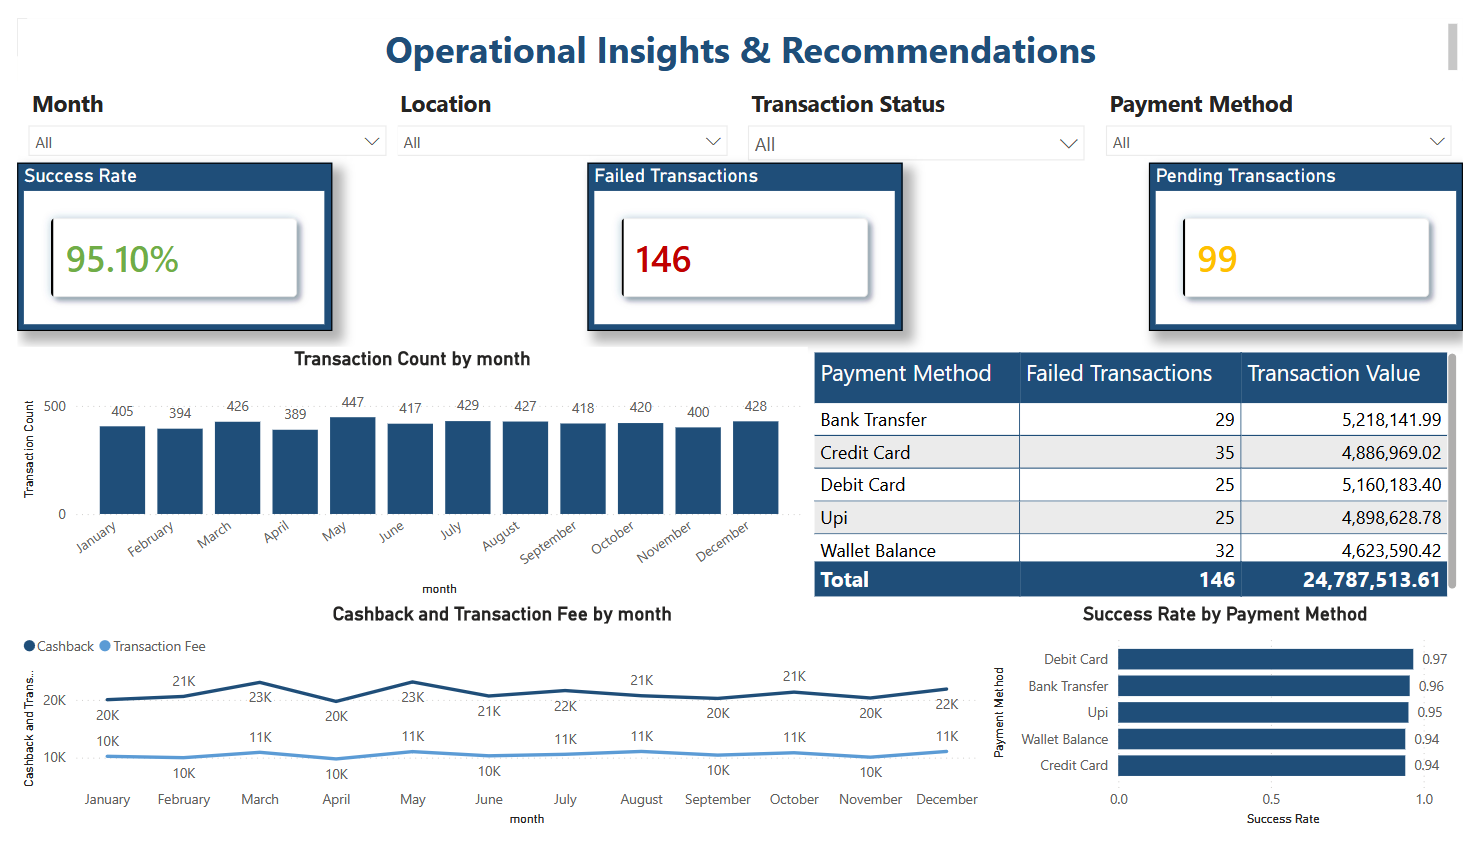

What the dashboard file says about the page in this screenshot:
{"tool":"powerbi","page":{"name":"Operational Insights & Recommendations","canvas":[1280,720],"ordinal":3},"visuals":[{"type":"textbox","box":[9.3,0,1270.7,52.1],"z":0},{"type":"slicer","fields":{"Values":["cleaned_transactions.payment_method"]},"box":[954.4,56.3,325.6,71.4],"z":1000},{"type":"slicer","fields":{"Values":["cleaned_transactions.location"]},"box":[325.6,56.3,313.2,71.4],"z":2000},{"type":"slicer","fields":{"Values":["cleaned_transactions.transaction_status"]},"box":[637.4,56.3,317.3,71.4],"z":3000},{"type":"slicer","fields":{"Values":["cleaned_transactions.month"]},"box":[0,56.3,336.6,71.4],"z":4000},{"type":"cardVisual","title":"Failed Transactions","fields":{"Data":["cleaned_transactions.Failed Transactions"]},"box":[505,127.6,278.6,149.6],"z":5000},{"type":"cardVisual","title":"Success Rate","fields":{"Data":["cleaned_transactions.Success Rate"]},"box":[0,127.6,278.6,149.6],"z":6000},{"type":"cardVisual","title":"Pending Transactions","fields":{"Data":["cleaned_transactions.Pending Transactions"]},"box":[1001.7,127.6,278.6,149.6],"z":7000},{"type":"clusteredBarChart","title":"Success Rate by Payment Method","fields":{"Category":["cleaned_transactions.payment_method"],"Y":["cleaned_transactions.Success Rate"]},"box":[859,517.3,421.3,203.1],"z":8000},{"type":"columnChart","fields":{"Category":["cleaned_transactions.month"],"Y":["cleaned_transactions.count_TID"]},"box":[0,290.9,699.8,226.4],"z":9000},{"type":"lineChart","fields":{"Category":["cleaned_transactions.month"],"Y":["Sum(cleaned_transactions.cashback)","Sum(cleaned_transactions.transaction_fee)"]},"box":[0,517.3,859,203.1],"z":10000},{"type":"tableEx","fields":{"Values":["cleaned_transactions.payment_method","cleaned_transactions.Failed Transactions","Sum(cleaned_transactions.product_amount)"]},"box":[699.8,290.9,580.4,226.4],"z":11000}]}

Visuals, with their boxes in screenshot pixels (x1, y1, x2, y2), scaled from the page's 1280x720 canvas onto the 1477x846 screenshot:
textbox: <bbox>11, 0, 1476, 61</bbox>
slicer - cleaned_transactions.payment_method: <bbox>1101, 66, 1476, 150</bbox>
slicer - cleaned_transactions.location: <bbox>376, 66, 737, 150</bbox>
slicer - cleaned_transactions.transaction_status: <bbox>735, 66, 1102, 150</bbox>
slicer - cleaned_transactions.month: <bbox>0, 66, 388, 150</bbox>
"Failed Transactions" cardVisual: <bbox>583, 150, 904, 326</bbox>
"Success Rate" cardVisual: <bbox>0, 150, 321, 326</bbox>
"Pending Transactions" cardVisual: <bbox>1156, 150, 1476, 326</bbox>
"Success Rate by Payment Method" clusteredBarChart: <bbox>991, 608, 1476, 845</bbox>
columnChart - cleaned_transactions.month x cleaned_transactions.count_TID: <bbox>0, 342, 808, 608</bbox>
lineChart - cleaned_transactions.month x Sum(cleaned_transactions.cashback): <bbox>0, 608, 991, 845</bbox>
tableEx - cleaned_transactions.payment_method x cleaned_transactions.Failed Transactions: <bbox>808, 342, 1476, 608</bbox>
